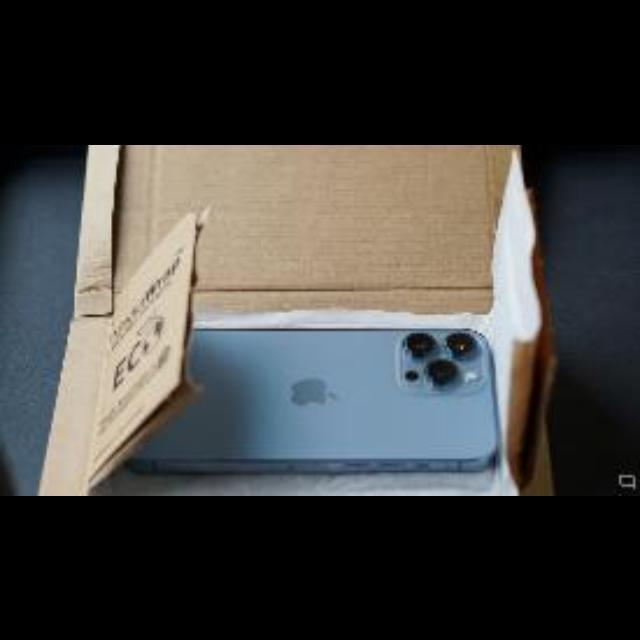PhoneUse: (130, 328, 494, 468)
